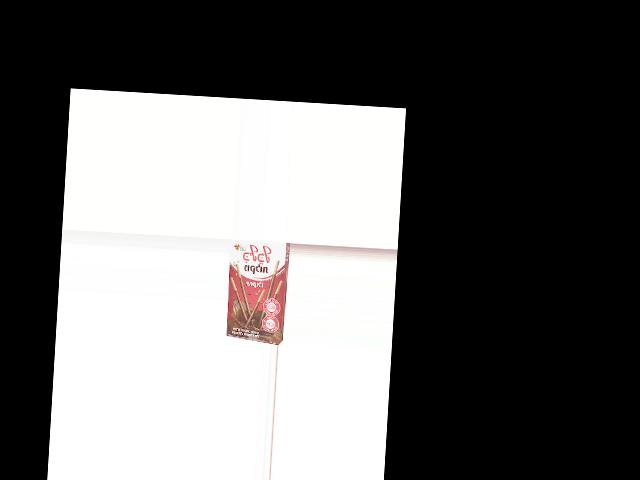chocolate: (224, 239, 289, 338)
